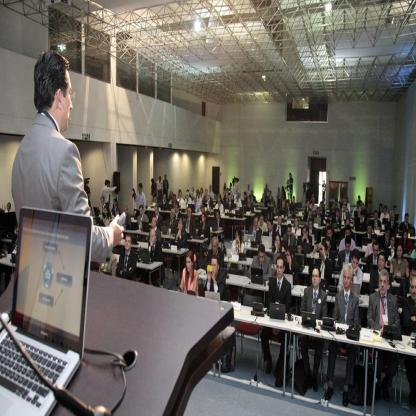board: (0, 191, 89, 416), (381, 324, 401, 338), (270, 302, 286, 319), (301, 312, 315, 327), (252, 268, 263, 284), (140, 250, 154, 262), (204, 292, 221, 301), (269, 252, 281, 264), (283, 274, 292, 289), (351, 284, 360, 298), (262, 236, 272, 248), (141, 222, 149, 232), (227, 249, 237, 257), (188, 205, 196, 213), (313, 218, 321, 226), (244, 235, 254, 241), (93, 207, 100, 215), (382, 218, 389, 224), (395, 213, 399, 222), (95, 217, 100, 224), (260, 202, 264, 207)
